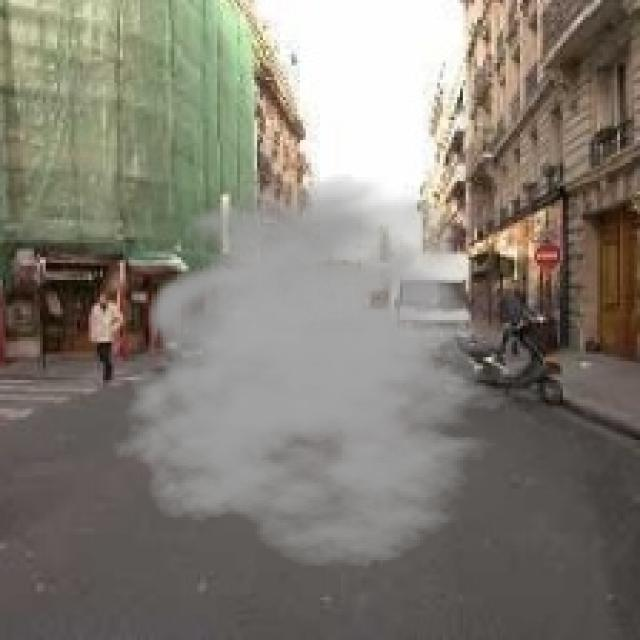Smoke: (111, 174, 534, 569)
